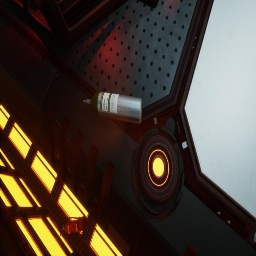0: (83, 91, 142, 124)
FireExtinguisher ]: (60, 216, 88, 238)
